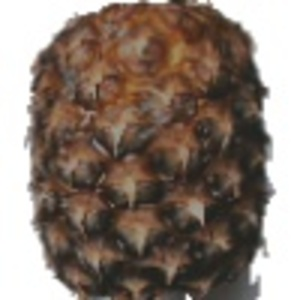abacaxi: (16, 3, 280, 293)
